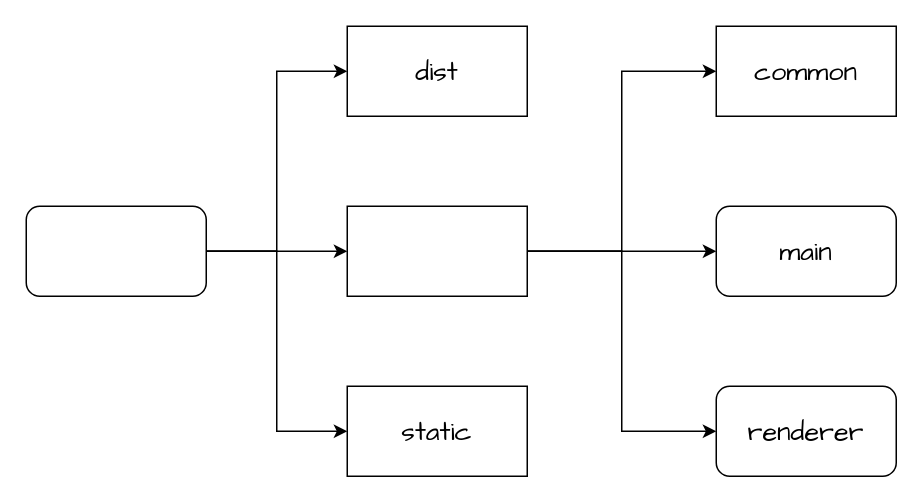
The diagram is 923 pixels wide and 503 high, and some of its shapes have lost their labels. Here are the shapes that lost their labels. From the top down, the box of each, then its label:
(25, 205, 206, 296): project
(346, 205, 527, 296): src
